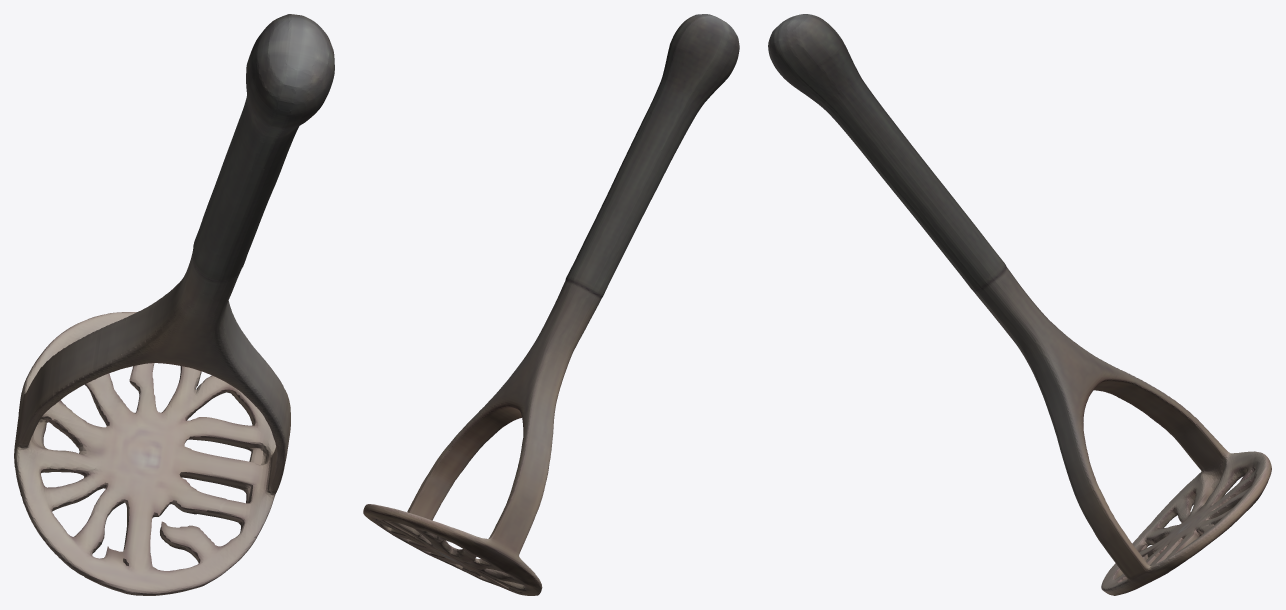
File: frame_0014_source_000014_object.glb
3 renders of one model, left to right at view 1: azimuth 30°, elevation 25°; view 2: azimuth 150°, elevation 25°; view 3: azimuth 270°, elevation 25°, orthographic. The views are drawn at different scales.
Visible parts, largest first — view 1: world; view 2: world; view 3: world.
Boxes of the visible parts, box(x1,y1,x2,y2) form: world: box(14, 14, 334, 595); world: box(363, 14, 739, 595); world: box(768, 14, 1271, 595).
Bounding box in the file's own units: 0.089 × 0.2242 × 0.1915.
